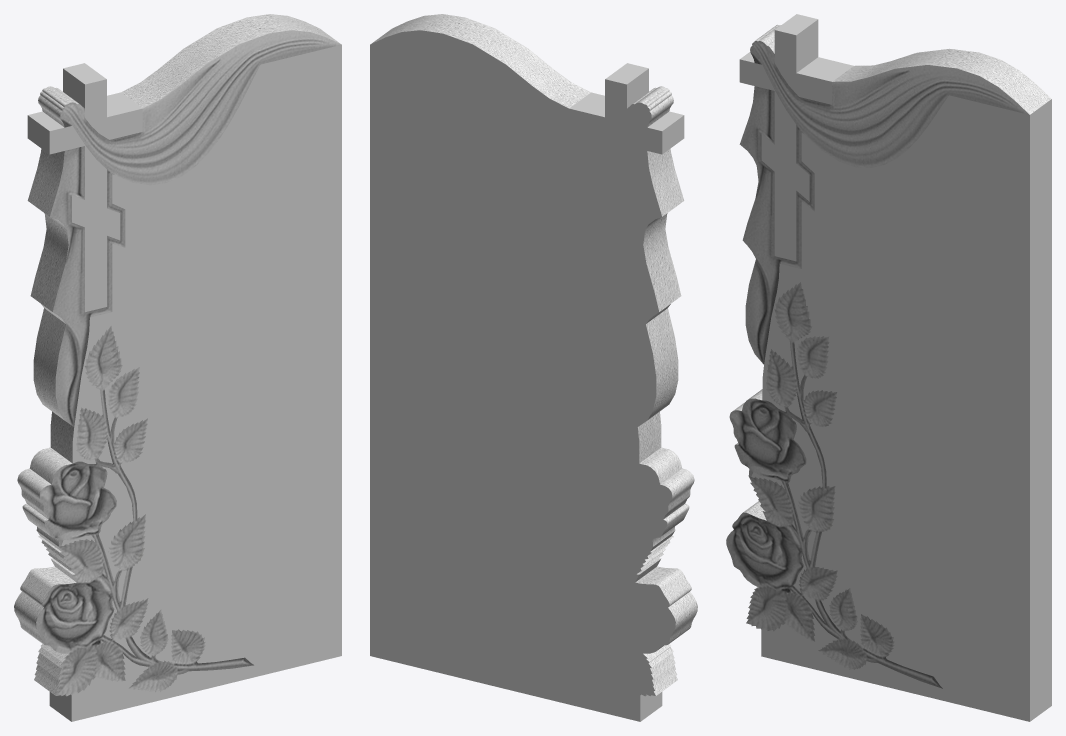
Rendered from cn2e5d23af18_tkf.glb.
The picture shows the model from 3 angles, left to right: view 1: azimuth 30°, elevation 25°; view 2: azimuth 150°, elevation 25°; view 3: azimuth 330°, elevation 25°; orthographic projection.
Visible parts, largest first — view 1: Pam-d01-156, Pam-d01-156_2_notexture; view 2: Pam-d01-156, Pam-d01-156_2_notexture; view 3: Pam-d01-156, Pam-d01-156_2_notexture.
Part boxes in pixels (x1,y1,x2,y2): Pam-d01-156: (27,45,341,721); Pam-d01-156_2_notexture: (14,14,341,696); Pam-d01-156: (370,30,684,721); Pam-d01-156_2_notexture: (371,14,697,696); Pam-d01-156: (739,14,1051,721); Pam-d01-156_2_notexture: (726,24,1051,688).
Size of the model in its own units: 0.4 by 0.8 by 0.05.
1 material, 1 textured.
